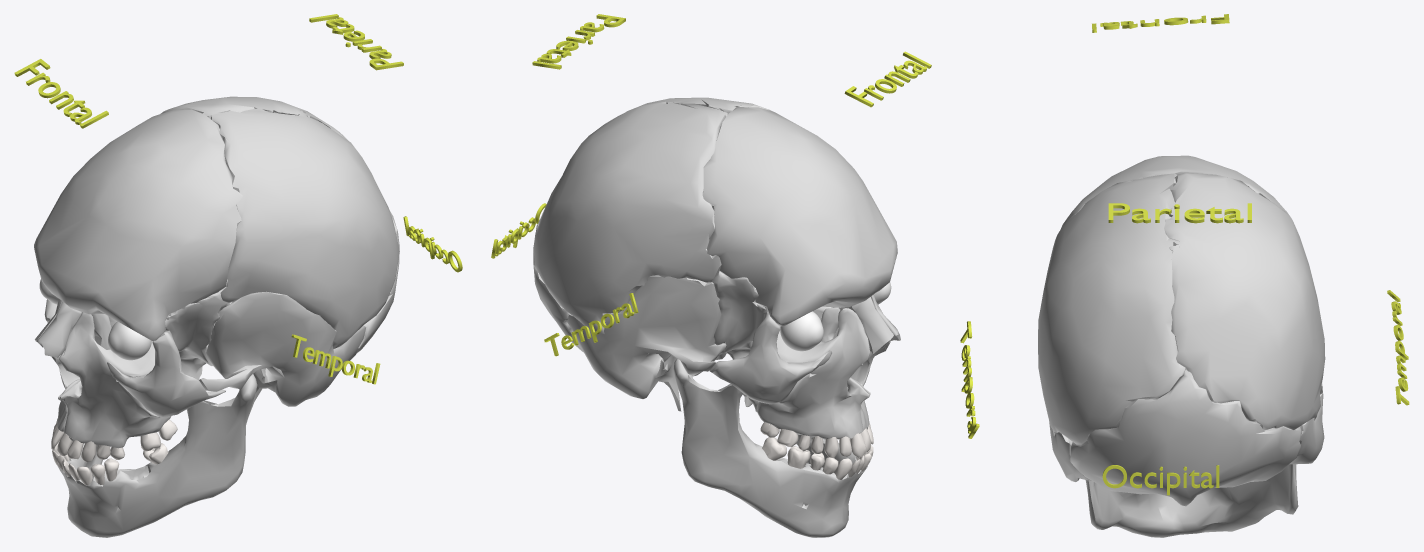
The model's file is craneo.glb.
3 views of the same model, side by side, from view 1: azimuth 30°, elevation 25°; view 2: azimuth 150°, elevation 25°; view 3: azimuth 270°, elevation 25° (orthographic). The views are drawn at different scales.
Visible parts, largest first — view 1: node_28bd2324_74d5_42bd_b127_73670bc96f2c_mesh0, node_86890c18_b5fa_4b05_aa75_184640b22ff9_mesh0, node_ced7c27b_32e0_4e70_acb5_7e2512f4265d_mesh0, node_9147ee67_28e3_4cca_bd97_80958359d4cb_mesh0, node_27291b45_287e_44d9_bb7d_6f25e41d6bf6_mesh0, node_941ee86e_747e_4ef6_90bc_ac617a88935f_mesh0, node_66376a8e_c260_41b1_a8b2_5e77f84330f2_mesh0, node_9d36a703_8949_4c5e_9eb4_dedb52577f09_mesh0, occipital.006, node_e7d45a12_8a17_4f37_81af_67da843f06b9_mesh0, parietal, node_438ac8a4_e067_4b62_a15b_3191b5a5de46_mesh0 (+5 smaller); view 2: node_86890c18_b5fa_4b05_aa75_184640b22ff9_mesh0, node_28bd2324_74d5_42bd_b127_73670bc96f2c_mesh0, node_ced7c27b_32e0_4e70_acb5_7e2512f4265d_mesh0, node_9147ee67_28e3_4cca_bd97_80958359d4cb_mesh0, node_27291b45_287e_44d9_bb7d_6f25e41d6bf6_mesh0, node_941ee86e_747e_4ef6_90bc_ac617a88935f_mesh0, node_66376a8e_c260_41b1_a8b2_5e77f84330f2_mesh0, node_9d36a703_8949_4c5e_9eb4_dedb52577f09_mesh0, node_e7d45a12_8a17_4f37_81af_67da843f06b9_mesh0, node_d0bc7880_4709_4ed3_b63f_8400cff84391_mesh0, node_438ac8a4_e067_4b62_a15b_3191b5a5de46_mesh0, occipital.006 (+4 smaller); view 3: node_86890c18_b5fa_4b05_aa75_184640b22ff9_mesh0, node_a1fc7f3a_9b51_47c0_8a20_9942b14fff00_mesh0, node_ced7c27b_32e0_4e70_acb5_7e2512f4265d_mesh0, node_28bd2324_74d5_42bd_b127_73670bc96f2c_mesh0, node_9147ee67_28e3_4cca_bd97_80958359d4cb_mesh0, parietal, occipital.001, occipital.004, occipital.003, occipital.006.
Part boxes in pixels (bbox=[...]): node_28bd2324_74d5_42bd_b127_73670bc96f2c_mesh0: bbox=[34, 109, 242, 340]; node_86890c18_b5fa_4b05_aa75_184640b22ff9_mesh0: bbox=[160, 96, 399, 348]; node_ced7c27b_32e0_4e70_acb5_7e2512f4265d_mesh0: bbox=[57, 374, 257, 537]; node_9147ee67_28e3_4cca_bd97_80958359d4cb_mesh0: bbox=[199, 279, 366, 415]; node_27291b45_287e_44d9_bb7d_6f25e41d6bf6_mesh0: bbox=[51, 312, 171, 448]; node_941ee86e_747e_4ef6_90bc_ac617a88935f_mesh0: bbox=[44, 299, 225, 417]; node_66376a8e_c260_41b1_a8b2_5e77f84330f2_mesh0: bbox=[165, 288, 229, 379]; node_9d36a703_8949_4c5e_9eb4_dedb52577f09_mesh0: bbox=[51, 418, 177, 462]; occipital.006: bbox=[14, 59, 108, 128]; node_e7d45a12_8a17_4f37_81af_67da843f06b9_mesh0: bbox=[52, 441, 168, 485]; parietal: bbox=[309, 14, 403, 70]; node_438ac8a4_e067_4b62_a15b_3191b5a5de46_mesh0: bbox=[35, 299, 81, 357]; node_86890c18_b5fa_4b05_aa75_184640b22ff9_mesh0: bbox=[533, 97, 771, 333]; node_28bd2324_74d5_42bd_b127_73670bc96f2c_mesh0: bbox=[702, 107, 897, 326]; node_ced7c27b_32e0_4e70_acb5_7e2512f4265d_mesh0: bbox=[673, 358, 867, 537]; node_9147ee67_28e3_4cca_bd97_80958359d4cb_mesh0: bbox=[567, 271, 755, 411]; node_27291b45_287e_44d9_bb7d_6f25e41d6bf6_mesh0: bbox=[757, 308, 890, 439]; node_941ee86e_747e_4ef6_90bc_ac617a88935f_mesh0: bbox=[709, 312, 831, 404]; node_66376a8e_c260_41b1_a8b2_5e77f84330f2_mesh0: bbox=[710, 271, 766, 406]; node_9d36a703_8949_4c5e_9eb4_dedb52577f09_mesh0: bbox=[760, 422, 873, 457]; node_e7d45a12_8a17_4f37_81af_67da843f06b9_mesh0: bbox=[762, 437, 873, 479]; node_d0bc7880_4709_4ed3_b63f_8400cff84391_mesh0: bbox=[780, 282, 891, 351]; node_438ac8a4_e067_4b62_a15b_3191b5a5de46_mesh0: bbox=[852, 294, 900, 354]; occipital.006: bbox=[844, 51, 931, 107]; node_86890c18_b5fa_4b05_aa75_184640b22ff9_mesh0: bbox=[1038, 172, 1325, 444]; node_a1fc7f3a_9b51_47c0_8a20_9942b14fff00_mesh0: bbox=[1069, 369, 1302, 506]; node_ced7c27b_32e0_4e70_acb5_7e2512f4265d_mesh0: bbox=[1085, 464, 1298, 537]; node_28bd2324_74d5_42bd_b127_73670bc96f2c_mesh0: bbox=[1060, 155, 1285, 229]; node_9147ee67_28e3_4cca_bd97_80958359d4cb_mesh0: bbox=[1049, 382, 1324, 481]; parietal: bbox=[1108, 203, 1251, 223]; occipital.001: bbox=[1102, 465, 1219, 495]; occipital.004: bbox=[1387, 290, 1409, 405]; occipital.003: bbox=[960, 321, 979, 438]; occipital.006: bbox=[1092, 14, 1229, 32].
Size of the model in its own units: 29.13 by 33.13 by 27.01.
